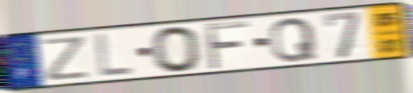7: (321, 9, 364, 61)
F: (203, 19, 252, 72)
L: (94, 31, 134, 78)
O: (149, 25, 204, 75)
Q: (269, 15, 320, 64)
Z: (40, 34, 91, 83)
